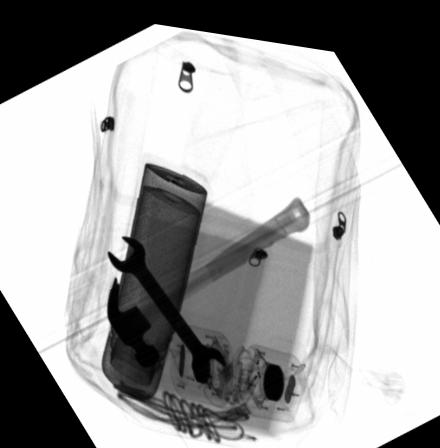Hammer: (106, 185, 308, 364)
Wrench: (106, 231, 225, 376)
